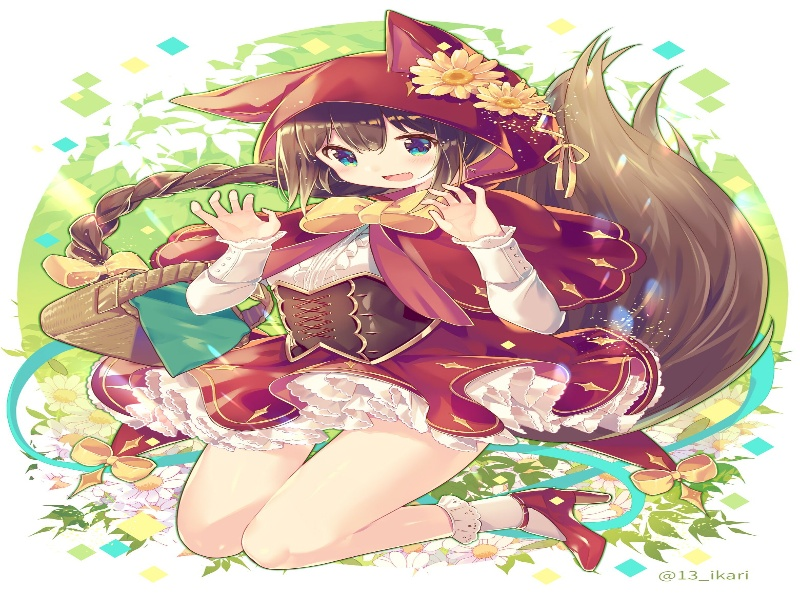dress: (88, 203, 674, 457)
person: (294, 94, 495, 211)
